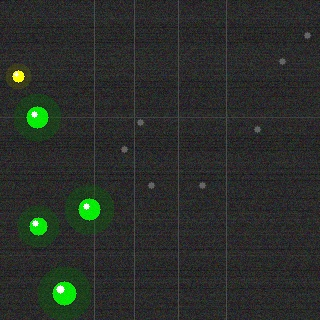green_normal: (50, 279, 78, 307), (76, 196, 102, 222), (24, 104, 50, 130), (27, 215, 49, 237)
yellow_warning: (10, 68, 26, 84)
